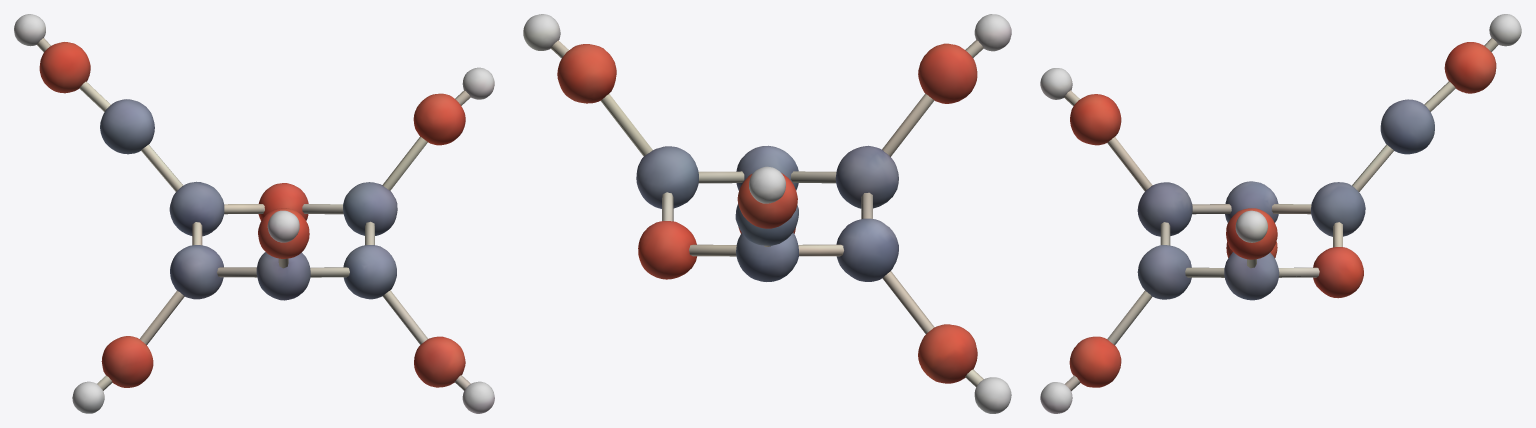
The model's file is glucose.glb.
3 renders of one model, left to right at view 1: azimuth 30°, elevation 25°; view 2: azimuth 150°, elevation 25°; view 3: azimuth 270°, elevation 25°, orthographic. The views are drawn at different scales.
Parts seen in each view (by area): view 1: glucose-carbon, glucose-oxygen, glucose-bonds, glucose-hydrogen; view 2: glucose-carbon, glucose-oxygen, glucose-bonds, glucose-hydrogen; view 3: glucose-carbon, glucose-oxygen, glucose-bonds, glucose-hydrogen.
Part boxes in pixels (x1,y1,x2,y2): glucose-carbon: [100, 99, 397, 300]; glucose-oxygen: [39, 42, 465, 387]; glucose-bonds: [37, 38, 470, 390]; glucose-hydrogen: [14, 14, 494, 413]; glucose-carbon: [636, 145, 898, 281]; glucose-oxygen: [557, 43, 977, 383]; glucose-bonds: [551, 40, 983, 386]; glucose-hydrogen: [523, 14, 1011, 413]; glucose-carbon: [1137, 99, 1434, 300]; glucose-oxygen: [1069, 42, 1496, 387]; glucose-bonds: [1064, 38, 1498, 390]; glucose-hydrogen: [1040, 14, 1521, 413].
Size of what is drawn, in the model's own units: 3 by 1.97 by 2.99.
